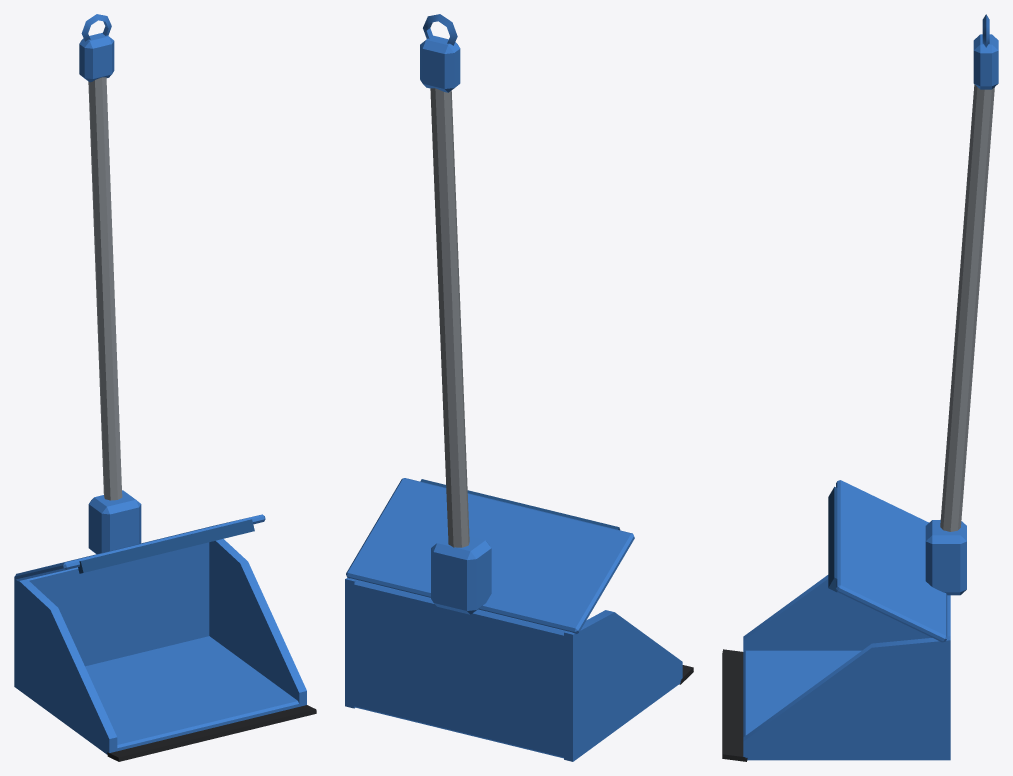
The model's file is SC_Home_Dustpan.gltf.
3 views of the same model, side by side, from view 1: azimuth 30°, elevation 25°; view 2: azimuth 150°, elevation 25°; view 3: azimuth 270°, elevation 25° (orthographic). The views are drawn at different scales.
Parts seen in each view (by area): view 1: SC_Home_Dustpan; view 2: SC_Home_Dustpan; view 3: SC_Home_Dustpan.
Boxes of the visible parts, x1,y1,x2,y2 form: SC_Home_Dustpan: [14, 14, 316, 761]; SC_Home_Dustpan: [345, 14, 693, 761]; SC_Home_Dustpan: [722, 14, 998, 761].
Size of the model in its own units: 0.306 by 0.9251 by 0.3333.
1 material, 1 textured.
